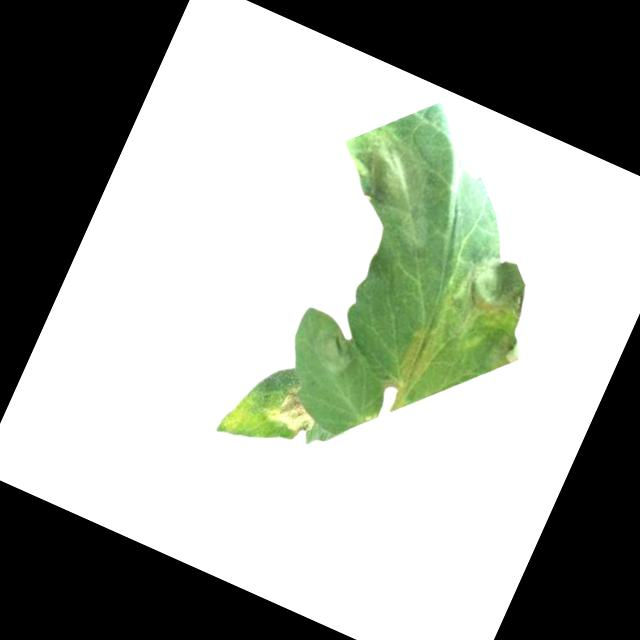Late_blight: (337, 119, 446, 221), (448, 239, 542, 330), (269, 378, 328, 442), (308, 323, 365, 379), (476, 326, 528, 381)
